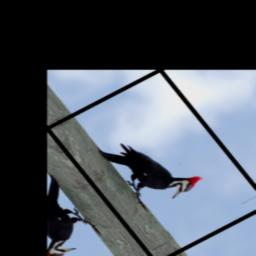Woodpecker: (94, 119, 206, 214)
